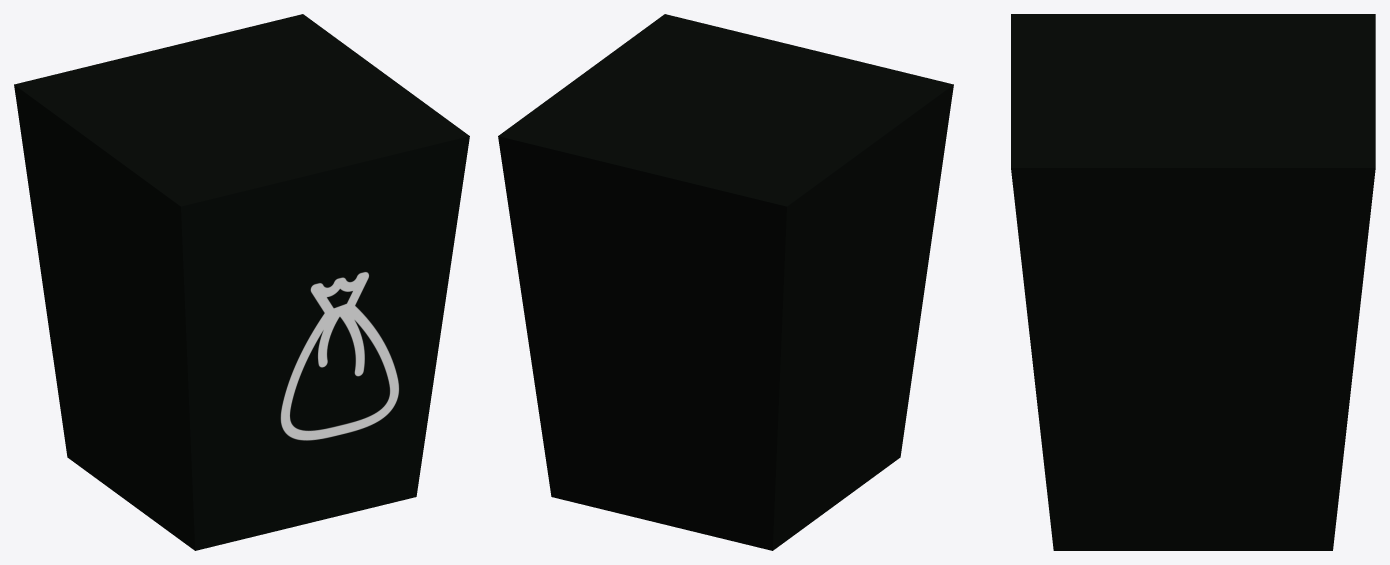
File: MixedTrash.glb
3 renders of one model, left to right at view 1: azimuth 30°, elevation 25°; view 2: azimuth 150°, elevation 25°; view 3: azimuth 270°, elevation 25°, orthographic. The views are drawn at different scales.
Visible parts, largest first — view 1: MixedTrash, mixed; view 2: MixedTrash; view 3: MixedTrash.
Part boxes in pixels (x1,y1,x2,y2): MixedTrash: (14,14,469,550); mixed: (280,272,398,440); MixedTrash: (498,14,953,550); MixedTrash: (1011,14,1375,550).
Bounding box in the file's own units: 0.4117 × 0.4993 × 0.4441.
2 materials, 1 textured.
